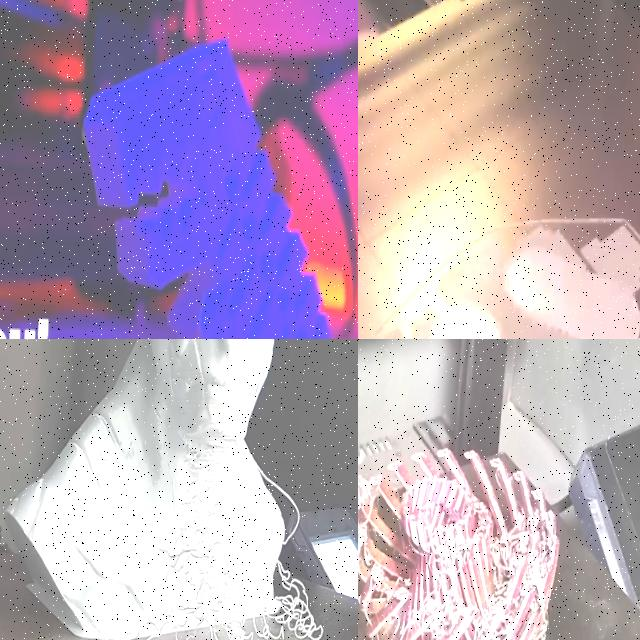spaghetti: (111, 424, 349, 640), (358, 421, 555, 640)
